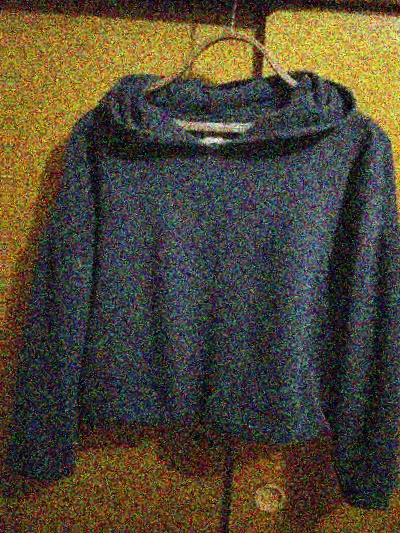Hoodie: (17, 26, 400, 509)
